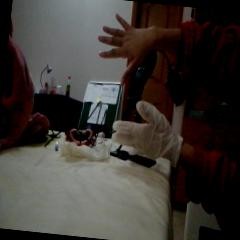gloved: (110, 99, 184, 161)
not-gloved: (92, 9, 167, 90)
